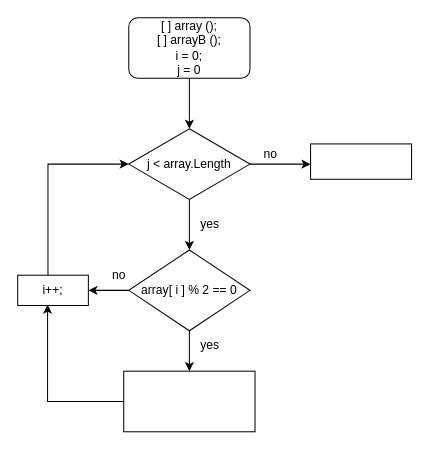
Some shapes in this 429 by 449 pixel diagram are drawn without their labels. The centre of each missing label's shape, as x and y in pixels:
arrayB [ j ] = array [ i ]; j++;: (x=189, y=401)
Print [ ] arrayB ( ): (x=361, y=161)
